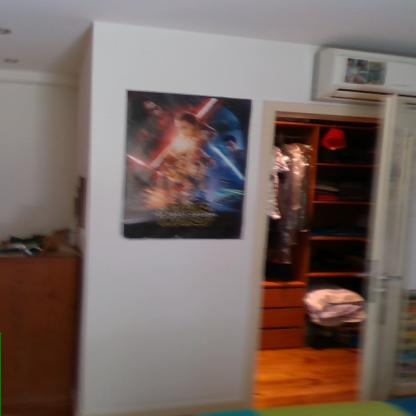open: (242, 90, 415, 401)
